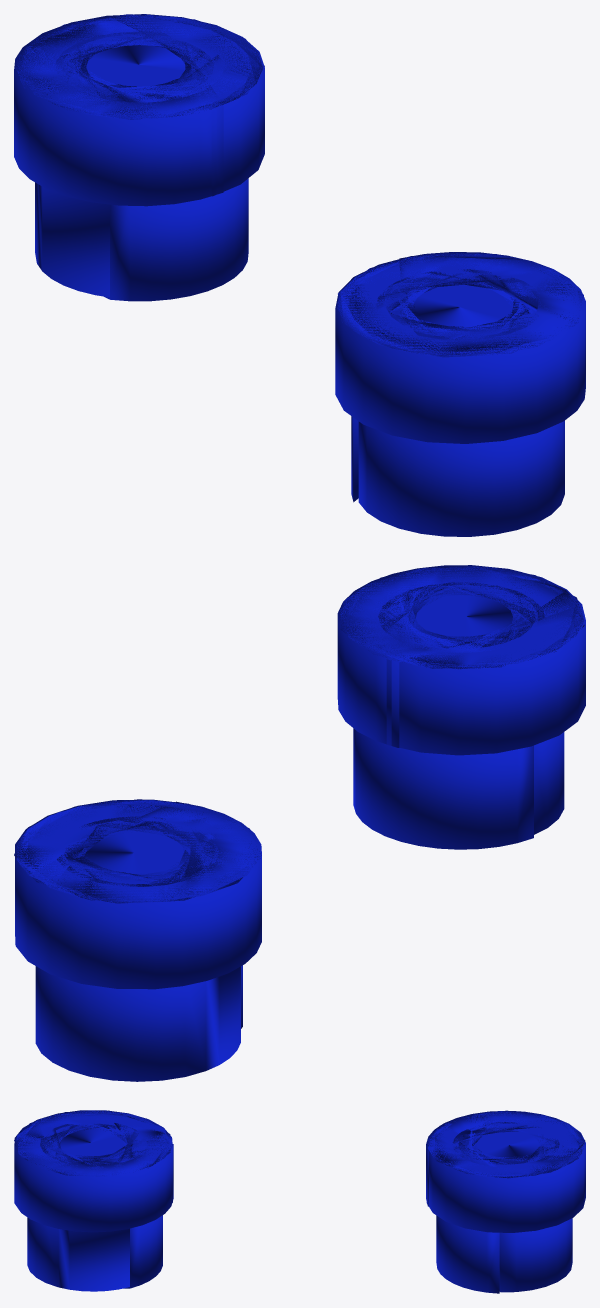
The model's file is tuyeau_element_000046.obj.
3 views of the same model, one above another, from view 1: azimuth 30°, elevation 25°; view 2: azimuth 150°, elevation 25°; view 3: azimuth 270°, elevation 25° (orthographic). The views are drawn at different scales.
Parts seen in each view (by area): view 1: tuyeau1_Cube.014, tuyeau2_Cube.017; view 2: tuyeau2_Cube.017, tuyeau1_Cube.014; view 3: tuyeau1_Cube.014, tuyeau2_Cube.017.
Part boxes in pixels (<box>): tuyeau1_Cube.014: <box>14,14,264,301</box>; tuyeau2_Cube.017: <box>335,252,585,536</box>; tuyeau2_Cube.017: <box>337,565,585,849</box>; tuyeau1_Cube.014: <box>14,799,261,1081</box>; tuyeau1_Cube.014: <box>426,1110,585,1293</box>; tuyeau2_Cube.017: <box>14,1110,173,1291</box>.
Bounding box in the file's own units: 3552 × 2917 × 12618.
